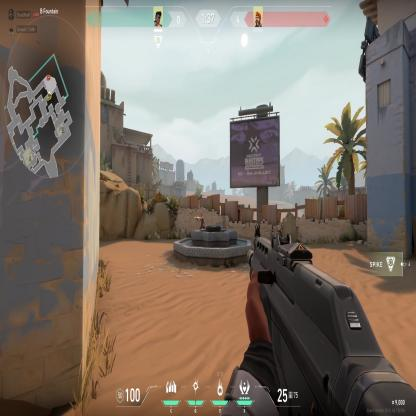enemy: (198, 213, 205, 230)
